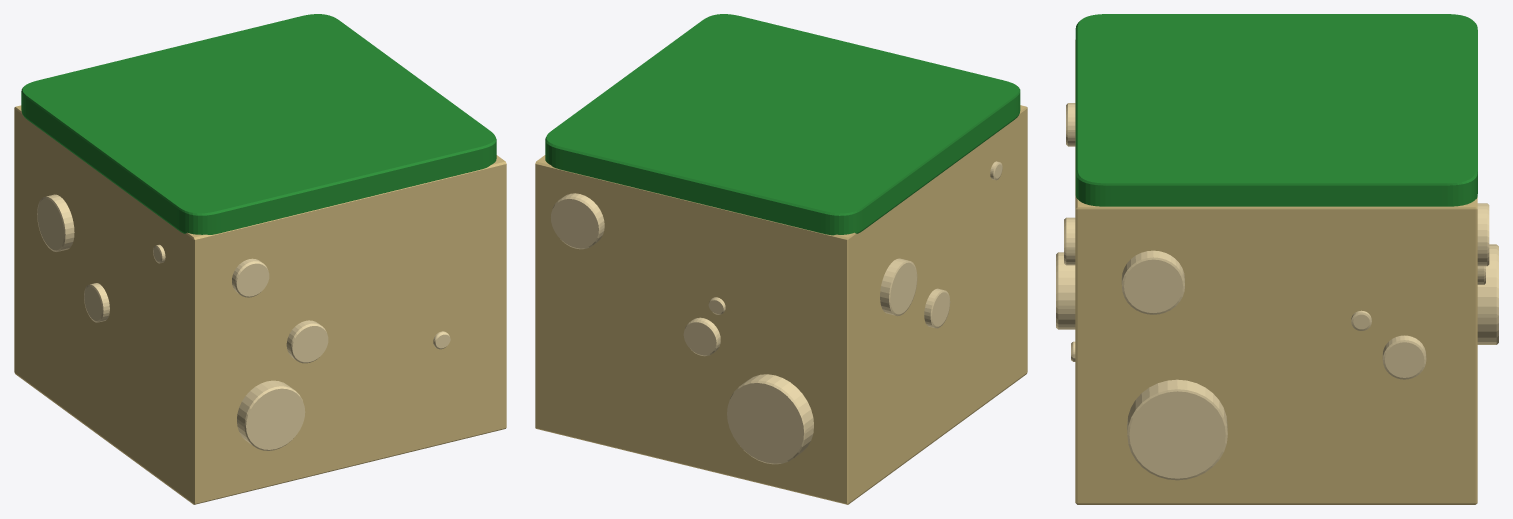
The model's file is blok.fbx.
3 renders of one model, left to right at view 1: azimuth 30°, elevation 25°; view 2: azimuth 150°, elevation 25°; view 3: azimuth 270°, elevation 25°, orthographic. The views are drawn at different scales.
Visible parts, largest first — view 1: Cylinder.014; view 2: Cylinder.014; view 3: Cylinder.014.
Boxes of the visible parts, left/top/right/bottom form: Cylinder.014: left=14, top=14, right=506, bottom=504; Cylinder.014: left=535, top=14, right=1027, bottom=504; Cylinder.014: left=1056, top=14, right=1498, bottom=504.
Size of the model in its own units: 218 by 176 by 220.
